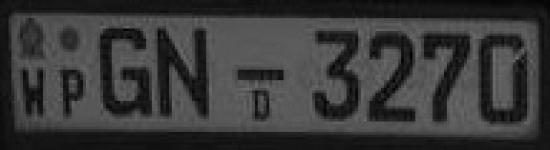-: (234, 61, 290, 91)
0: (476, 27, 533, 132)
2: (365, 24, 421, 127)
3: (303, 23, 364, 123)
7: (422, 25, 477, 127)
G: (94, 19, 156, 121)
N: (155, 21, 216, 126)
P: (57, 64, 88, 122)
W: (17, 62, 53, 120)
